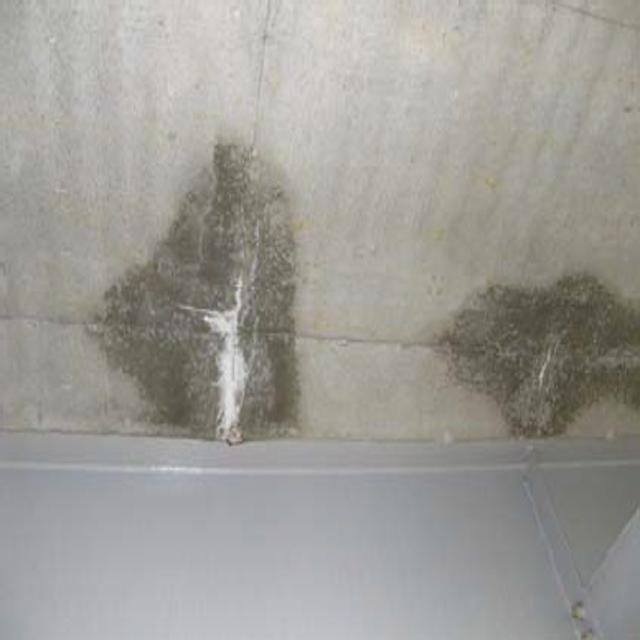freelime: (196, 274, 261, 443)
